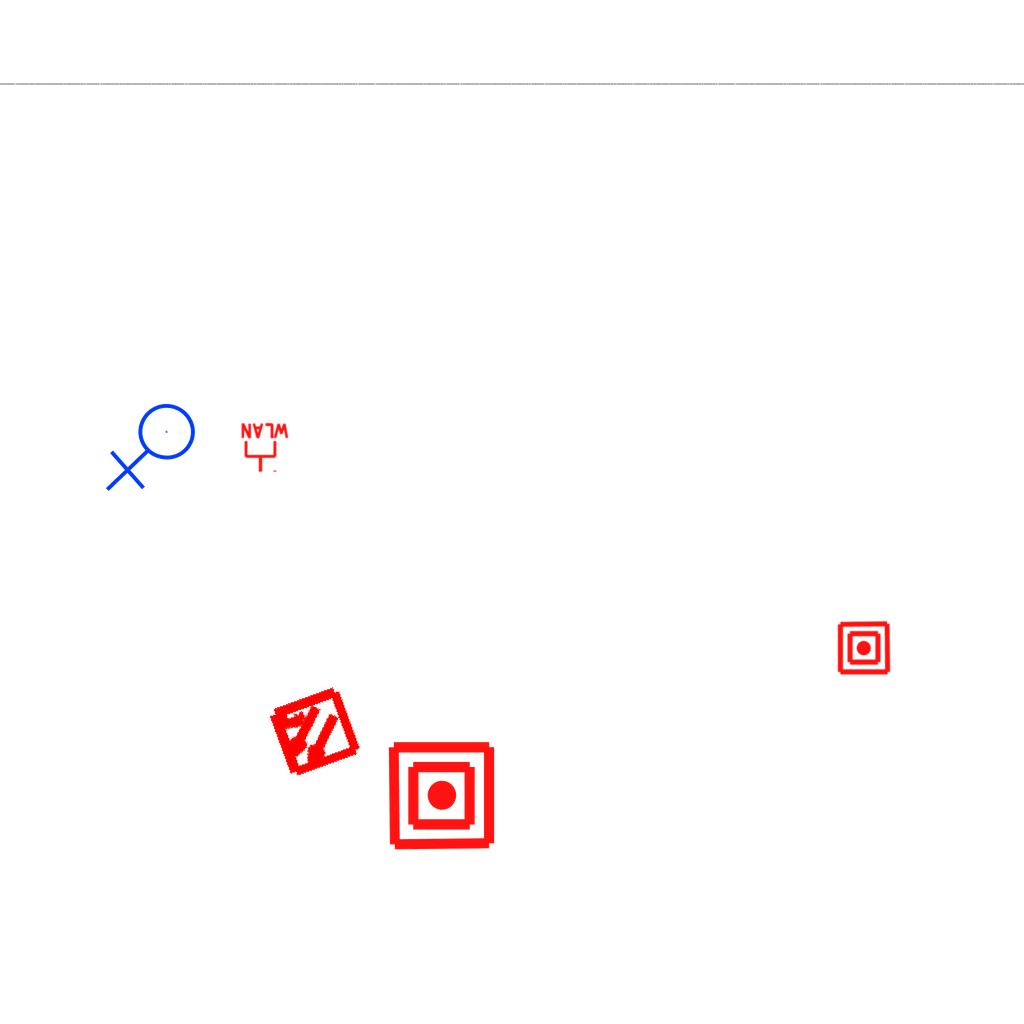Elektroanschluss_allgemein_230V_Geraeteanschlussdose_230V: (105, 402, 204, 496)
NAM-Nichtautomatischer_Melder: (385, 739, 498, 852), (836, 620, 892, 676)
OT_Multisensormelder_(Kombination_RMO_WMD): (240, 660, 385, 805)
WLAN: (239, 422, 291, 474)
